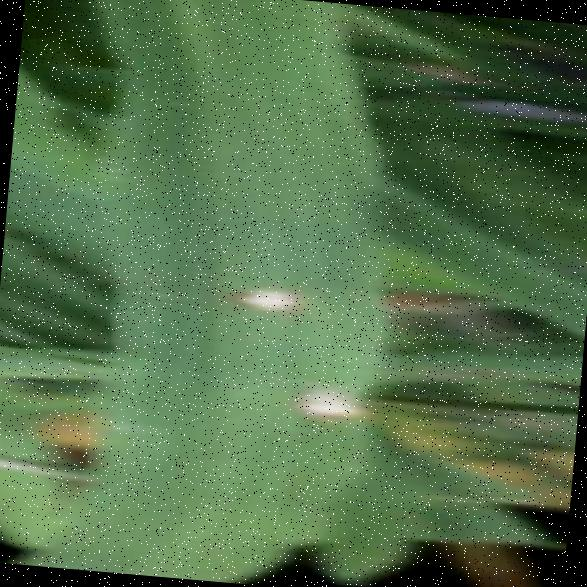Leaf_smut: (270, 371, 394, 463), (216, 244, 319, 334)
